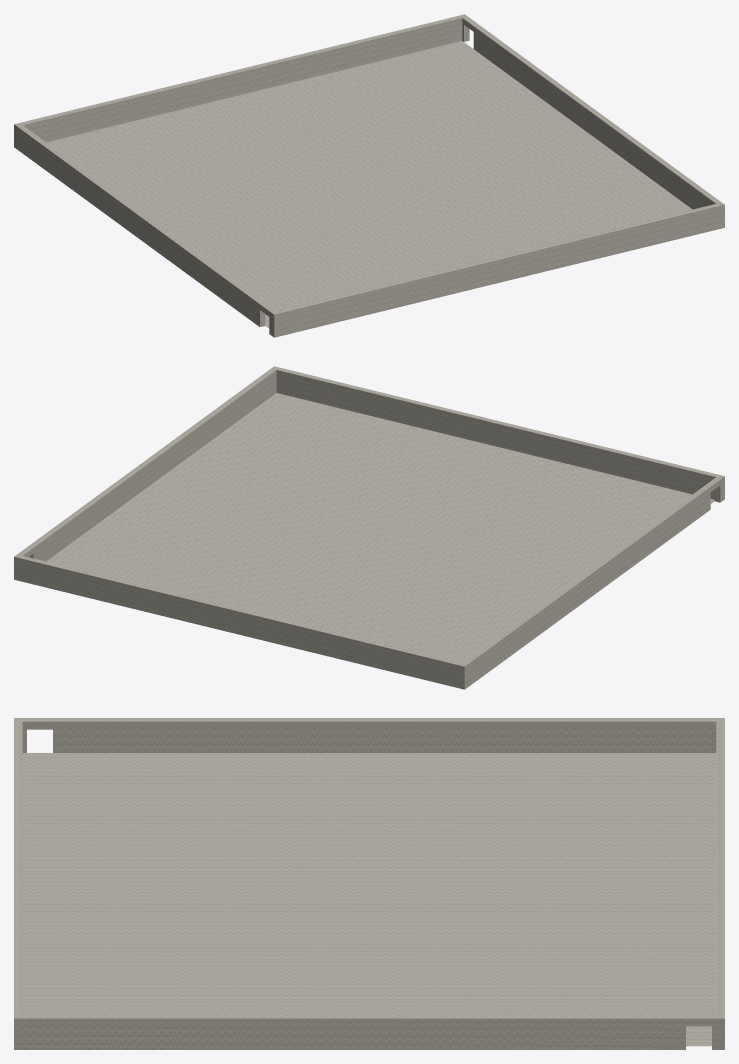
File: Bassin.fbx
3 views of the same model, one above another, from view 1: azimuth 30°, elevation 25°; view 2: azimuth 150°, elevation 25°; view 3: azimuth 270°, elevation 25° (orthographic). The views are drawn at different scales.
Parts seen in each view (by area): view 1: Bassin; view 2: Bassin; view 3: Bassin.
Part boxes in pixels (x1,y1,x2,y2): Bassin: [14, 14, 724, 337]; Bassin: [14, 366, 724, 689]; Bassin: [14, 718, 724, 1049].
Bounding box in the file's own units: 8200 × 400 × 8200.
